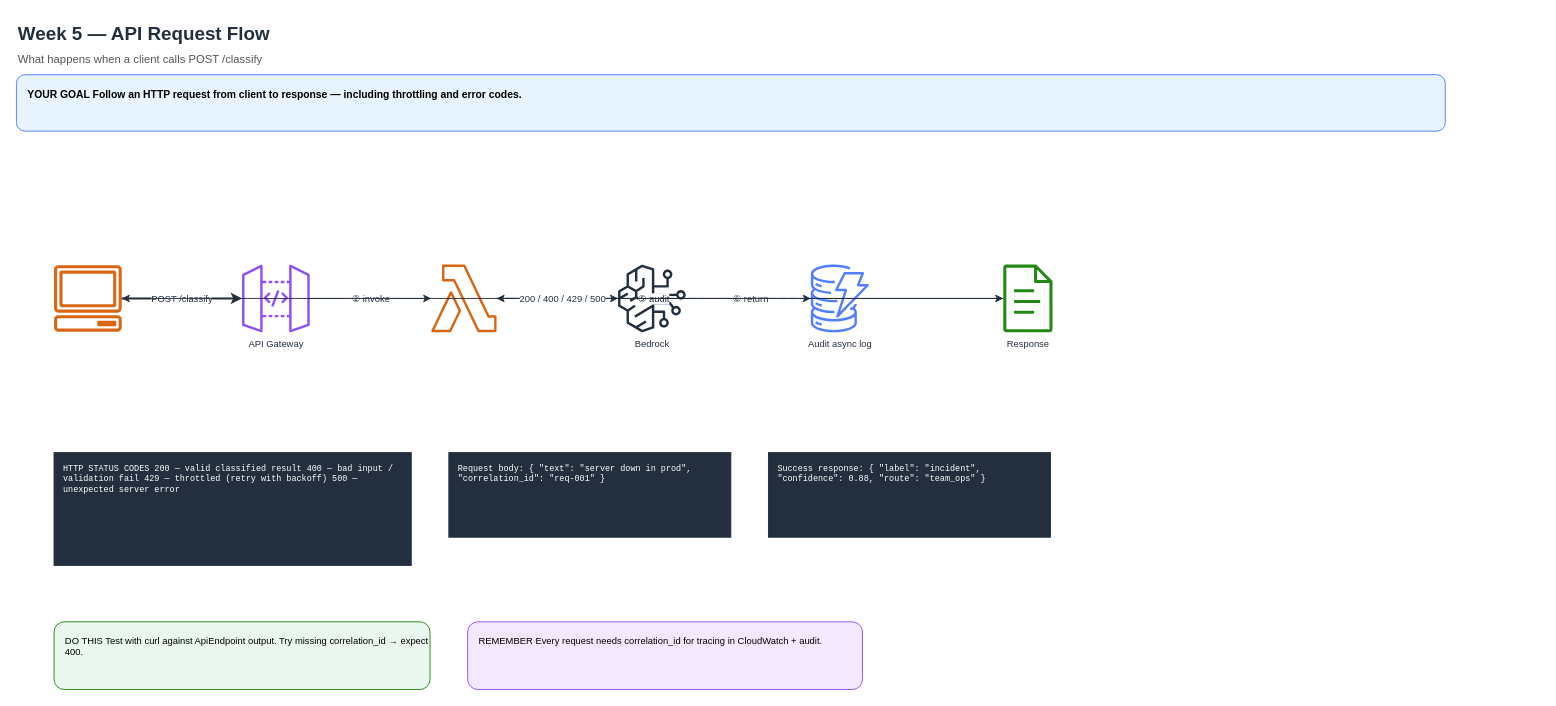
Some shapes in this 1556 by 706 pixel diagram are drawn without their labels. Here are the shapes that lost their labels. From the top down, the centre of each, then its label:
(87,298): Client
(463,298): Lambda handler
